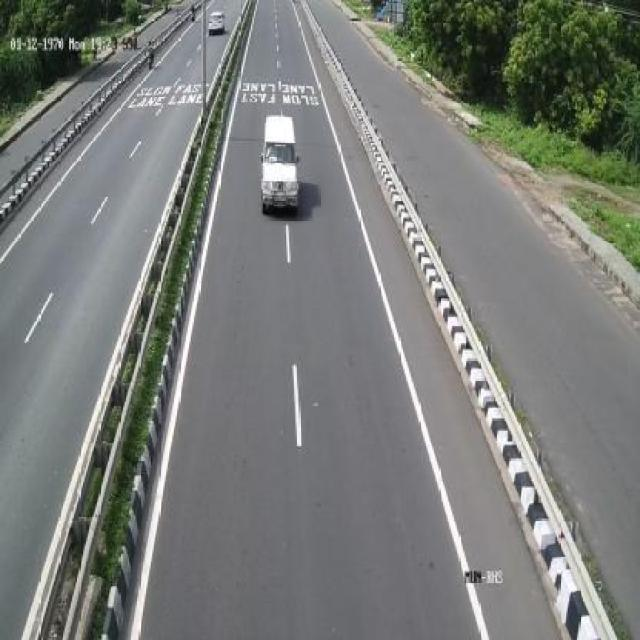car: (260, 115, 298, 211), (206, 6, 229, 31)
